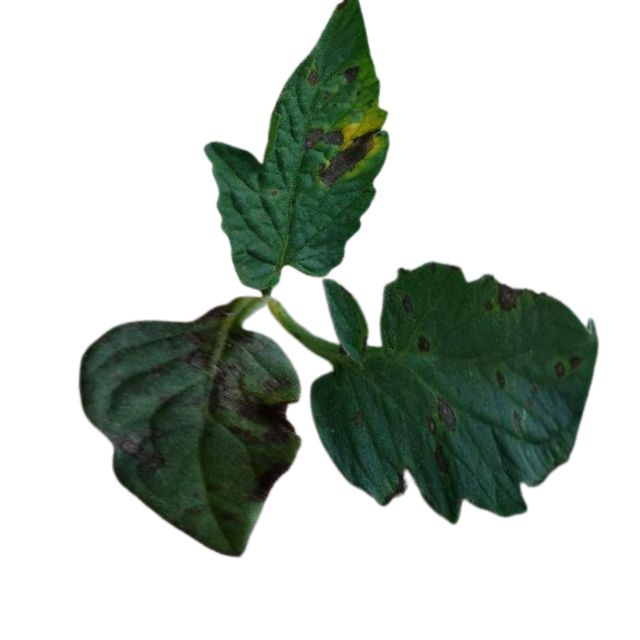Early_blight: (178, 324, 301, 444), (314, 129, 374, 185), (102, 428, 170, 476), (247, 458, 293, 500), (425, 395, 459, 440), (483, 281, 524, 316), (300, 125, 342, 150), (430, 444, 450, 473), (553, 354, 579, 376), (340, 62, 360, 85), (398, 295, 412, 317), (304, 68, 320, 87), (413, 335, 430, 352)
